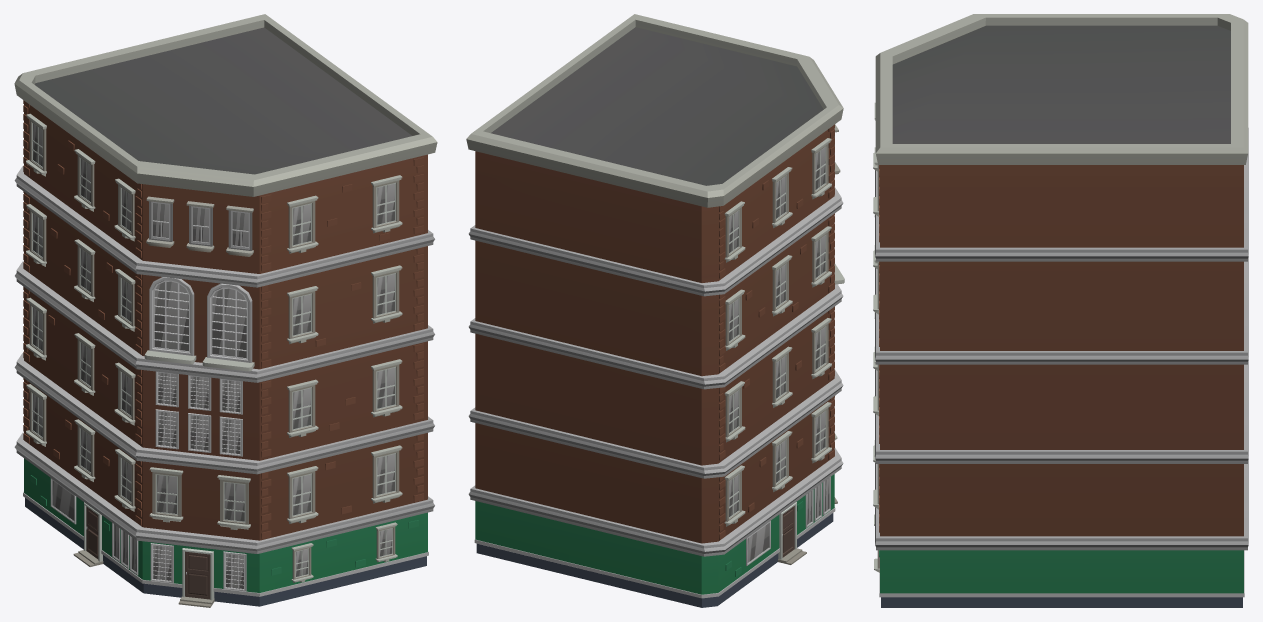
File: Building_25_1_H.fbx
The picture shows the model from 3 angles, left to right: view 1: azimuth 30°, elevation 25°; view 2: azimuth 150°, elevation 25°; view 3: azimuth 270°, elevation 25°; orthographic projection. The views are drawn at different scales.
Parts seen in each view (by area): view 1: Building_25_1_H; view 2: Building_25_1_H; view 3: Building_25_1_H.
Boxes of the visible parts, x1,y1,x2,y2 form: Building_25_1_H: (14, 14, 437, 607); Building_25_1_H: (466, 14, 844, 607); Building_25_1_H: (873, 14, 1248, 607).
Bounding box in the file's own units: 1291 × 2014 × 1479.
